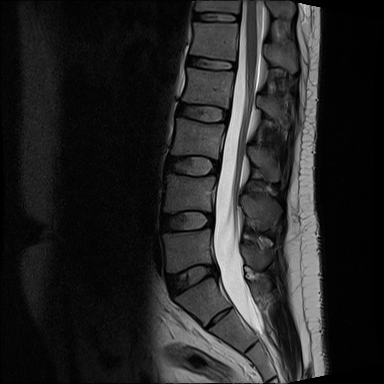Lumbar Disc Bulge (LDB): (163, 260, 224, 301)
Normal IVD: (156, 207, 216, 237), (161, 152, 222, 179), (174, 100, 231, 126), (183, 53, 237, 74), (192, 10, 241, 25)
Spinal Stenosis (SS): (205, 258, 224, 284)
